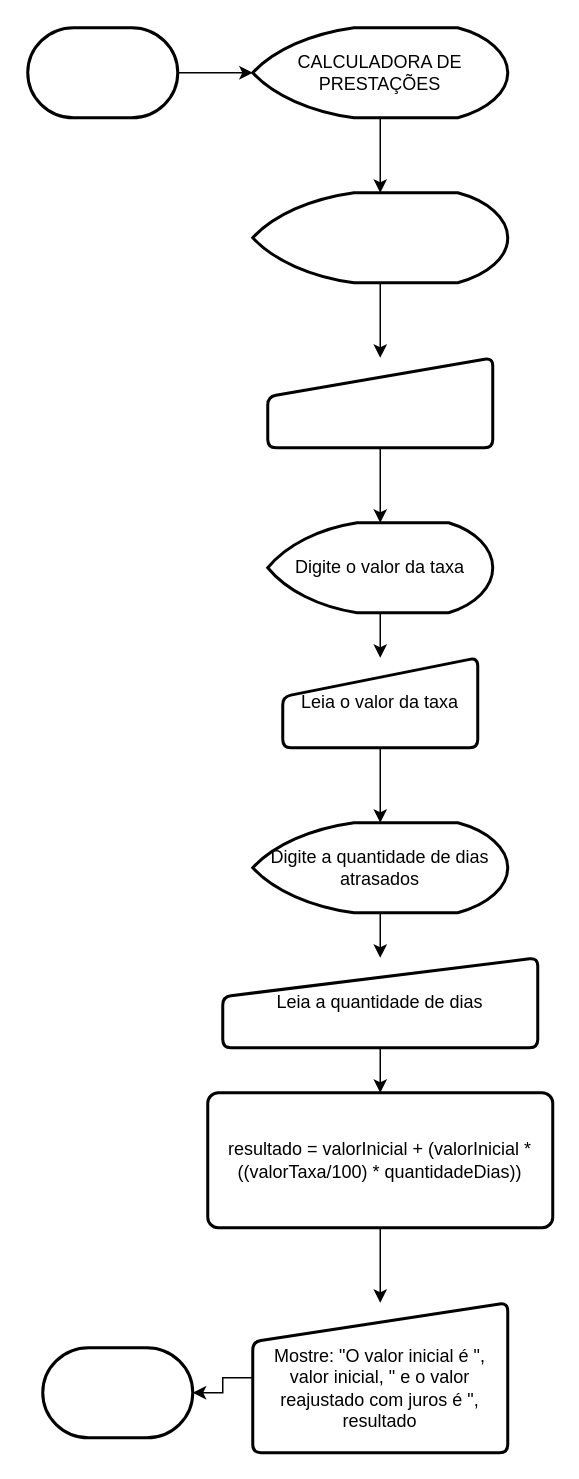
Some shapes in this 579 by 1479 pixel diagram are drawn without their labels. The shapes that lost their labels are listed below. From the top down, each one's centre as x and y in pixels, then its label:
At (x=102, y=72): "Início".
At (x=379, y=237): "Digite o valor inicial".
At (x=380, y=402): "Leia o valor inicial".
At (x=117, y=1392): "Fim".
